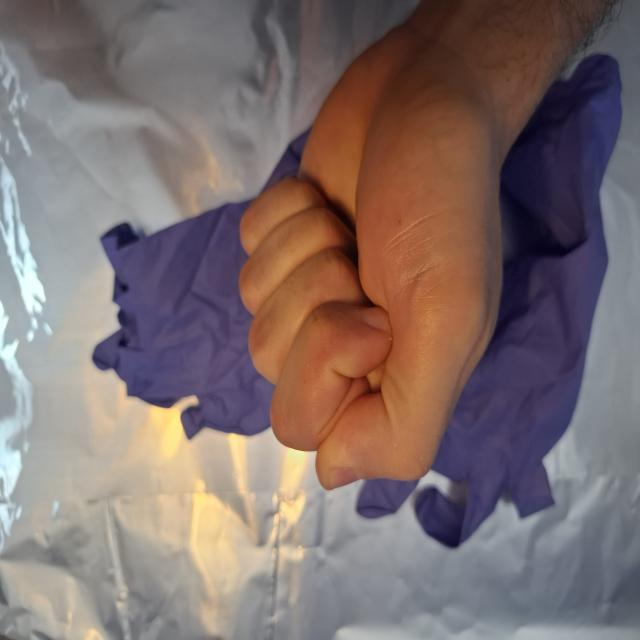glove_off: (236, 4, 514, 494)
